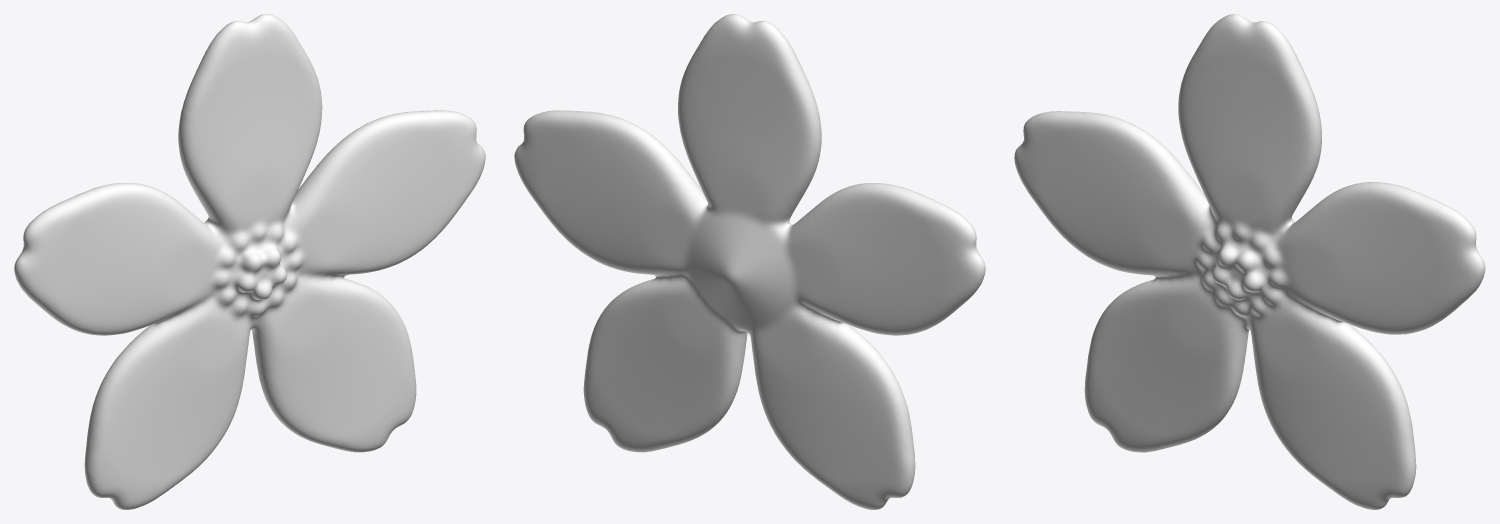
The model's file is flower.glb.
The picture shows the model from 3 angles, left to right: view 1: azimuth 30°, elevation 25°; view 2: azimuth 150°, elevation 25°; view 3: azimuth 330°, elevation 25°; orthographic projection.
Parts seen in each view (by area): view 1: falling petals; view 2: falling petals; view 3: falling petals.
Part boxes in pixels (bbox=[...]): falling petals: bbox=[14, 14, 485, 509]; falling petals: bbox=[514, 14, 985, 509]; falling petals: bbox=[1014, 14, 1485, 509].
Size of the model in its own units: 476 by 448 by 62.89.
1 material, 1 textured.
